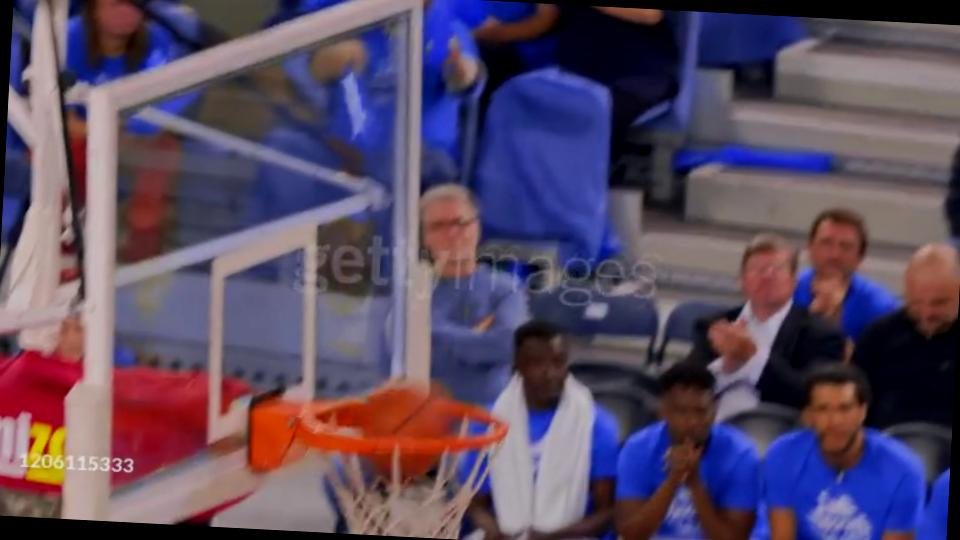hoop: (283, 386, 514, 466)
